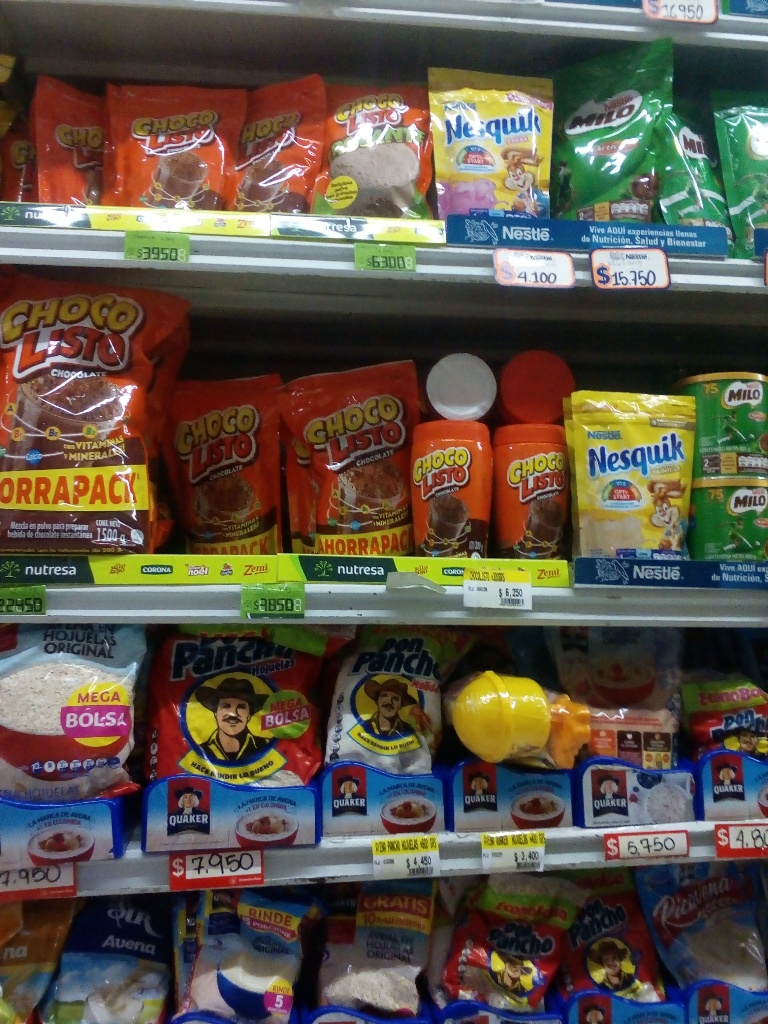COL0170102DYP25000: (316, 64, 437, 223)
COL0170103DYP1,500: (2, 266, 178, 551)
COL0170103DYP20000: (236, 65, 321, 215)
COL0170103DYP40000: (277, 353, 418, 559)
COL0170103TRR30000: (495, 421, 572, 557)
COL0170203DYP25000: (645, 87, 732, 234)
COL0170203DYP50000: (551, 32, 673, 225)
COL0170203LAT40000: (691, 476, 768, 564)
COL0170305DYP20000: (424, 64, 554, 218)
COL0170306DYP20000: (564, 389, 695, 560)
